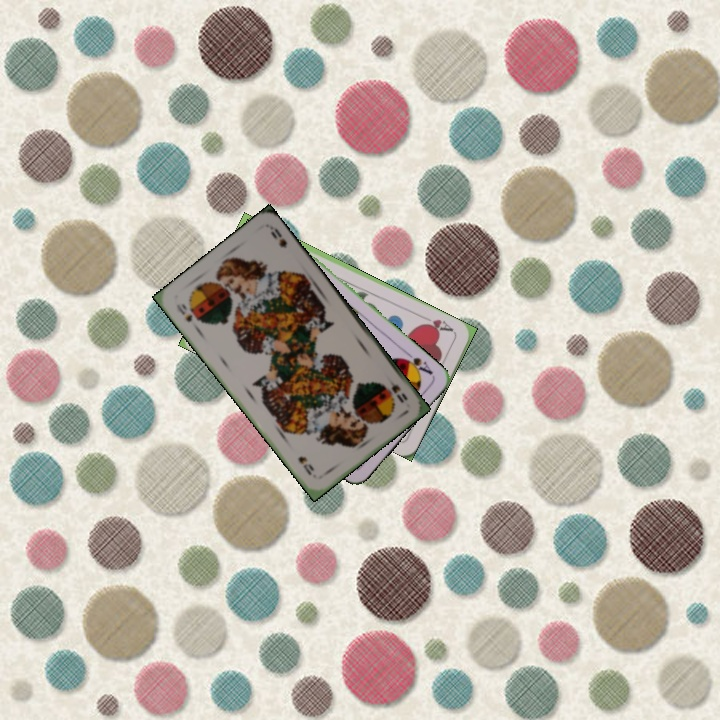HA: (417, 315, 457, 336)
SA: (398, 348, 436, 378)
SO: (382, 372, 410, 406), (172, 299, 199, 332)
